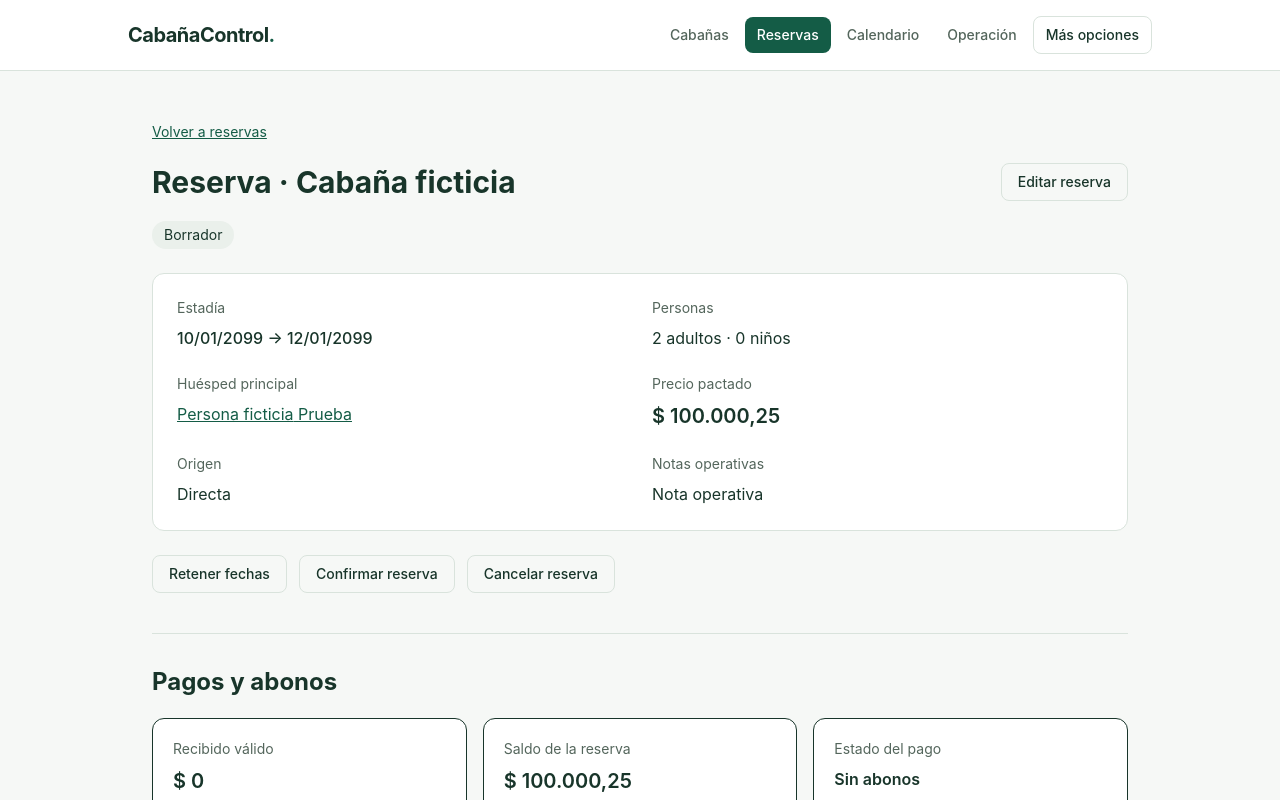
Reservas y permisos › muestra rechazo de disponibilidad al confirmar sin cambiar la ficha
Click the button "Confirmar reserva": [377, 574] box [299,555,455,593]
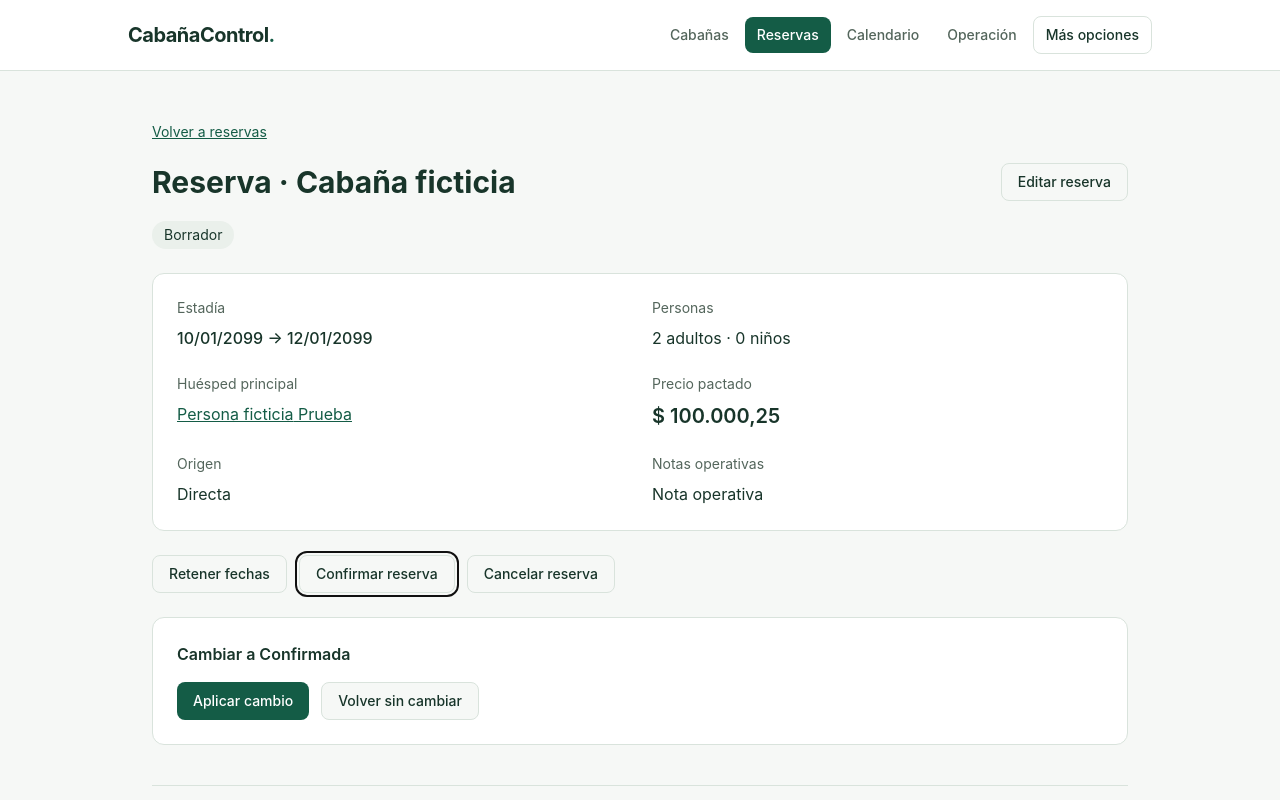
Click the button "Aplicar cambio": [243, 701] box [177,682,309,720]
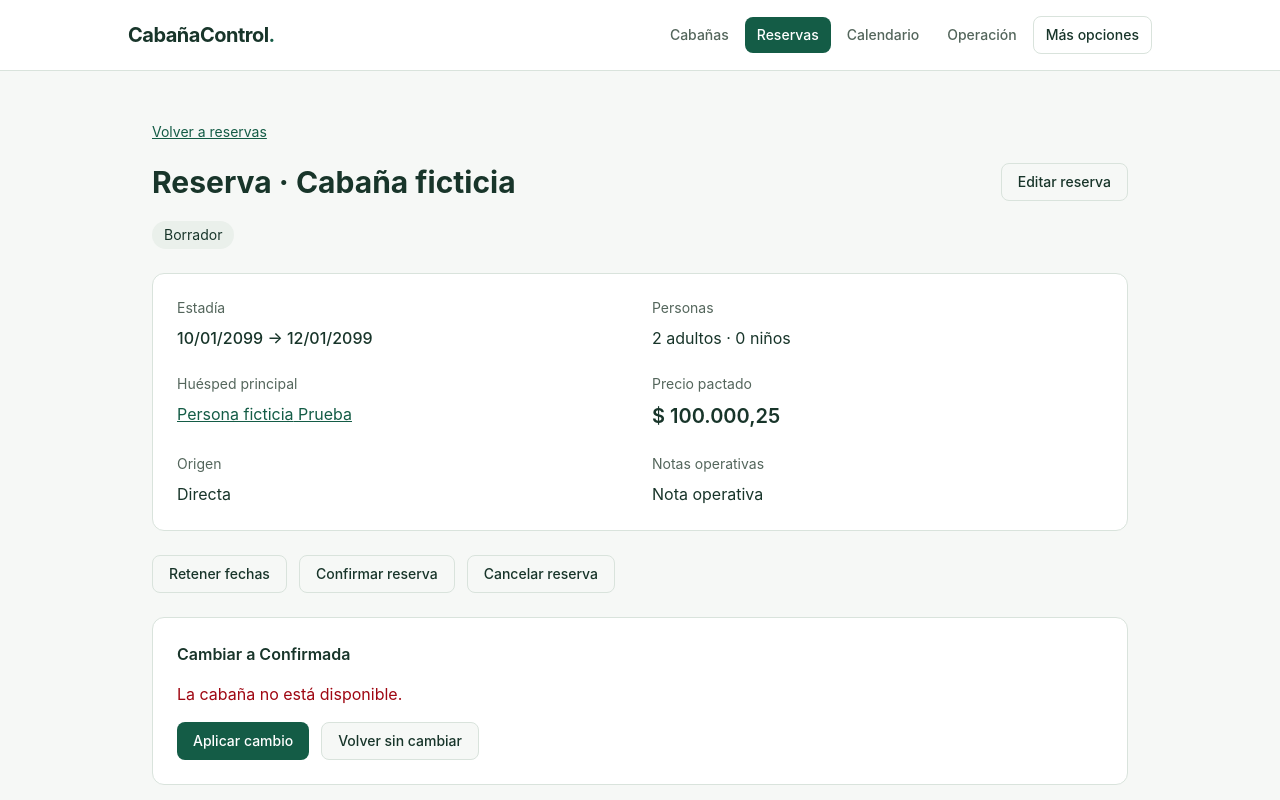
Check: the text "Borrador" is shown, box [152,221,234,249]
Check: the message shows "no está disponible", box [177,684,402,704]
